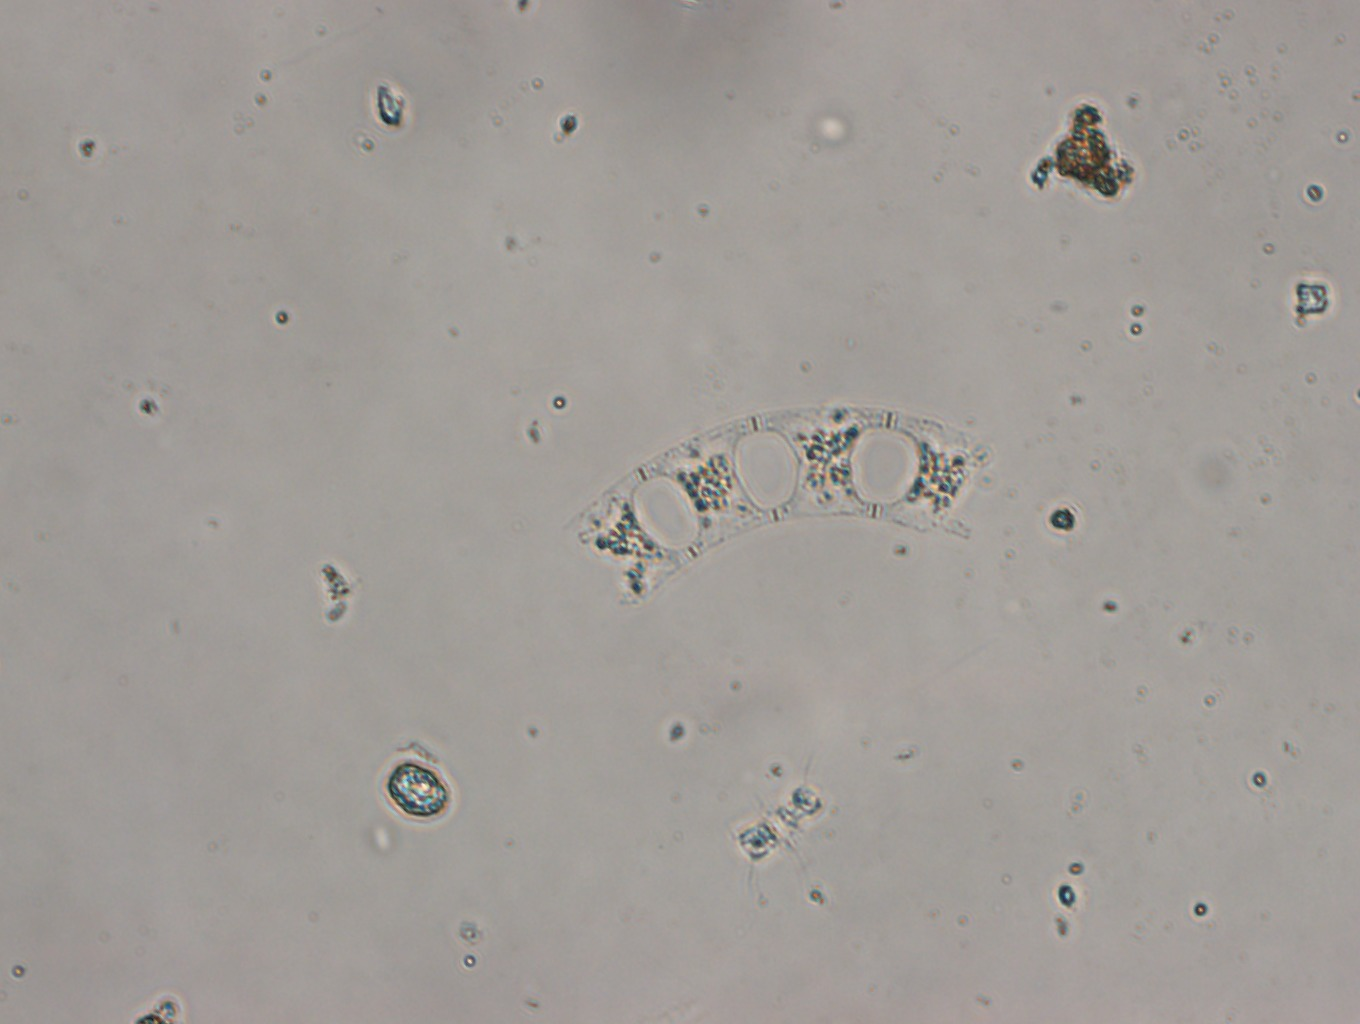eucampia: (575, 406, 1004, 597)
